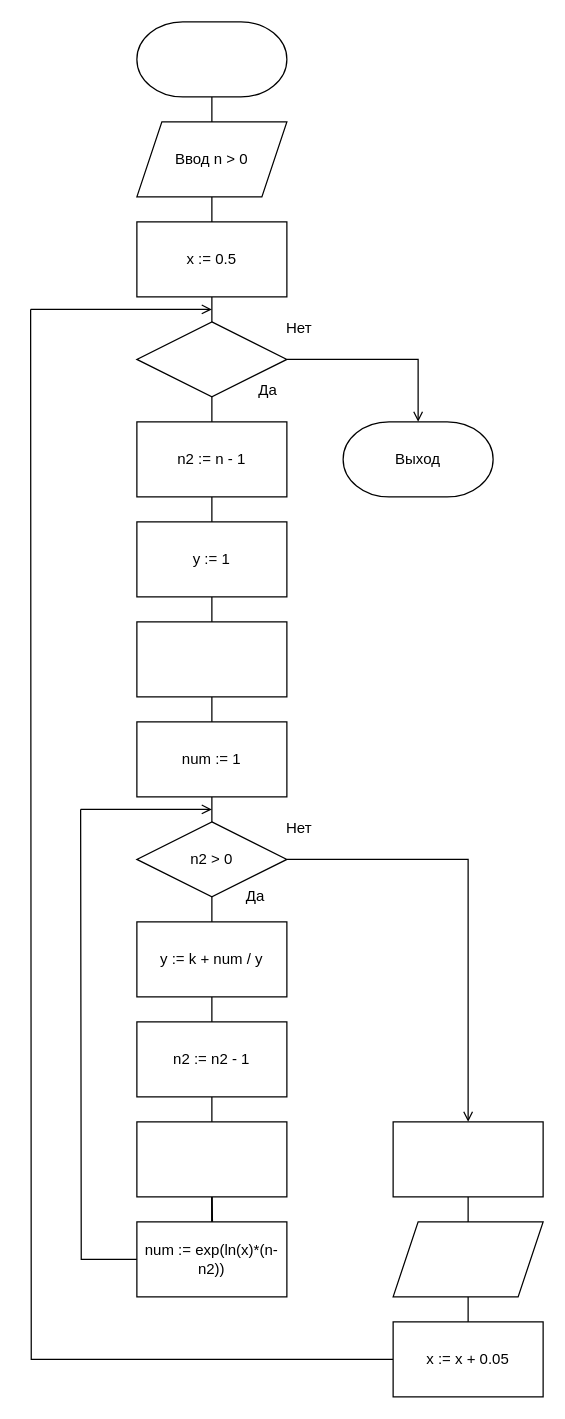
Some shapes in this 565 by 1419 pixel diagram are drawn without their labels. The shapes that lost their labels are listed below. From the top down, each one's box as (x1, y1, x2, y2) in pixels, then its label:
(136, 21, 287, 97): Начало
(136, 321, 287, 397): x <= 0.8
(136, 621, 287, 697): k := sqrt(x)
(136, 1121, 287, 1197): k := exp(ln(x)/(n-n2+1))
(392, 1121, 543, 1197): y := exp(ln(x) * n) / y
(392, 1221, 543, 1297): Вывод x, y
